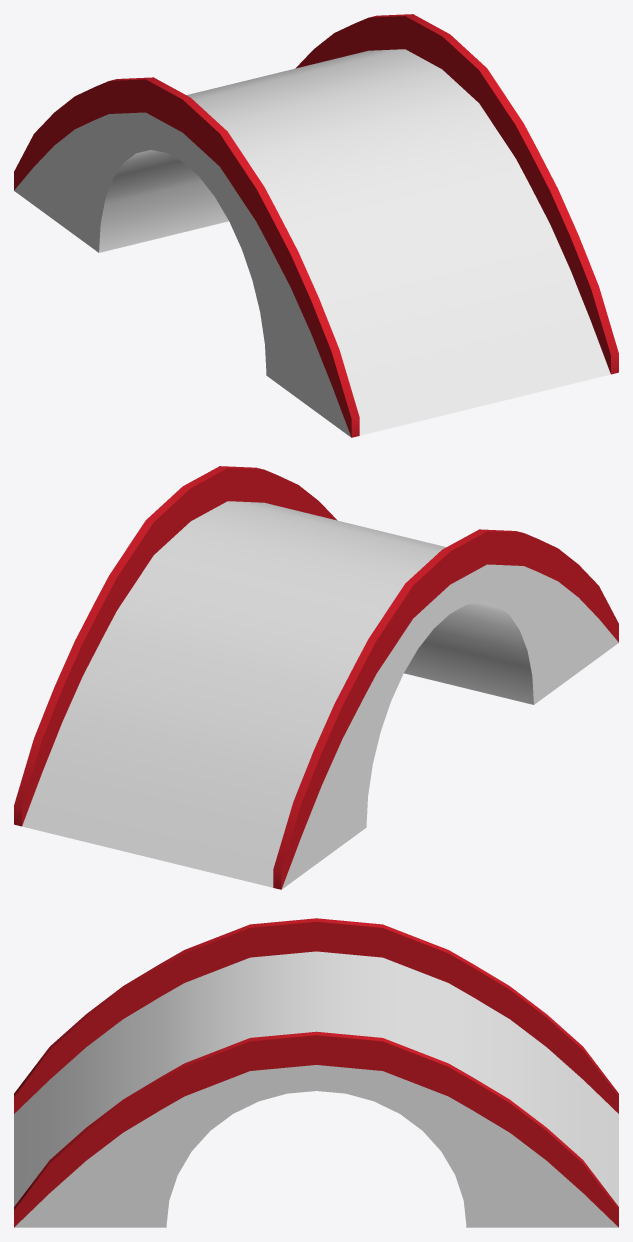
Rendered from Bridge.fbx.
3 views of the same model, one above another, from view 1: azimuth 30°, elevation 25°; view 2: azimuth 150°, elevation 25°; view 3: azimuth 270°, elevation 25° (orthographic). The views are drawn at different scales.
Visible parts, largest first — view 1: Cube; view 2: Cube; view 3: Cube.
Boxes of the visible parts, <box> form: Cube: <box>14,14,618,437</box>; Cube: <box>14,466,618,889</box>; Cube: <box>14,918,618,1227</box>.
Bounding box in the file's own units: 259 × 199 × 567.
